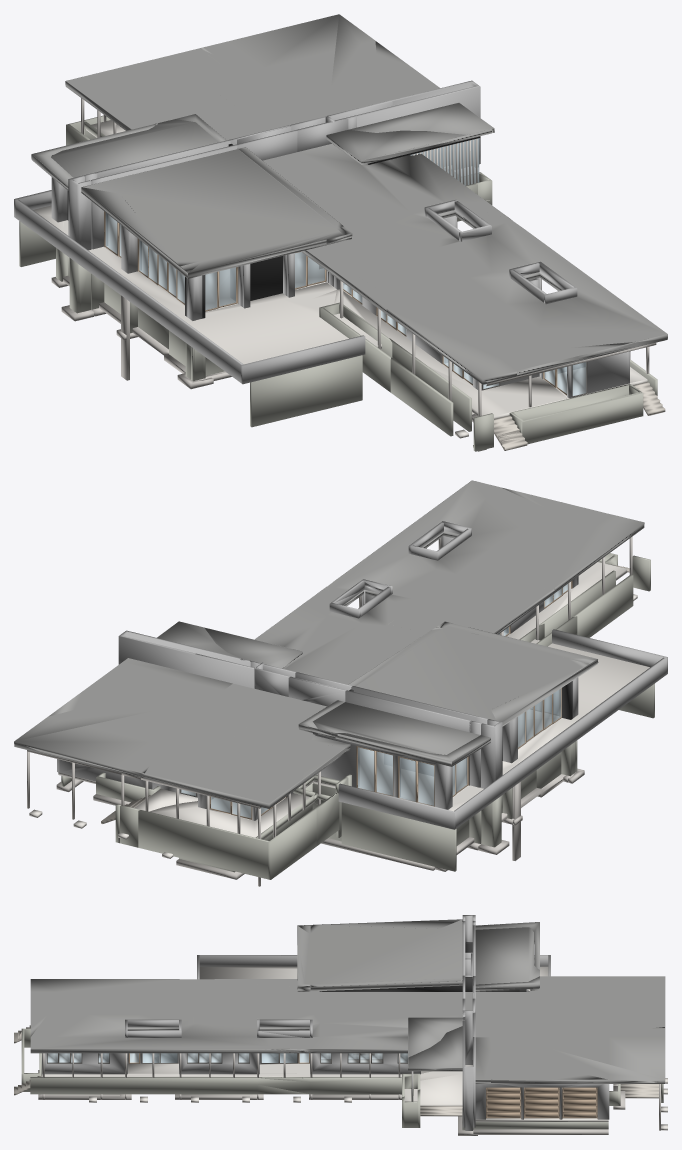
3 views of the same model, one above another, from view 1: azimuth 30°, elevation 25°; view 2: azimuth 150°, elevation 25°; view 3: azimuth 270°, elevation 25° (orthographic). The views are drawn at different scales.
Parts seen in each view (by area): view 1: storey4_roof~m0, storey4_roof~m8, storey4_roof~m3, storey4_roof~m7, storey4_roof~m4, storey4_roof~m2, storey3_floor~m9, storey3_wall__vertical-stained-wood-siding-787878~m9, storey4_roof~m9, storey3_wall__concrete-cast-in-place-gray-818476~m9, storey4_roof~m5, storey3_wall__concrete-cast-in-place-gray-818476~m3 (+28 smaller); view 2: storey4_roof~m7, storey4_roof~m0, storey4_roof~m3, storey4_roof~m8, storey4_roof~m2, storey4_roof~m4, storey3_wall__vertical-stained-wood-siding-787878~m9, storey3_wall__concrete-cast-in-place-gray-818476~m2, storey3_wall__concrete-cast-in-place-gray-818476~m9, storey4_roof~m9, storey4_roof~m5, storey4_roof~m6 (+29 smaller); view 3: storey4_roof~m7, storey4_roof~m3, storey4_roof~m0, storey4_roof~m8, storey4_roof~m2, storey4_roof~m4, storey3_wall__concrete-cast-in-place-gray-818476~m3, storey4_roof~m1, storey3_wall__vertical-stained-wood-siding-787878~m3, storey4_roof~m5, storey3_door~m7, storey4_roof~m6 (+22 smaller).
Boxes of the visible parts, bbox=[...] form: storey4_roof~m0: bbox=[306, 224, 540, 384]; storey4_roof~m8: bbox=[83, 149, 335, 265]; storey4_roof~m3: bbox=[431, 208, 667, 376]; storey4_roof~m7: bbox=[227, 14, 494, 134]; storey4_roof~m4: bbox=[298, 129, 509, 249]; storey4_roof~m2: bbox=[65, 47, 267, 142]; storey3_floor~m9: bbox=[33, 205, 381, 364]; storey3_wall__vertical-stained-wood-siding-787878~m9: bbox=[14, 190, 365, 384]; storey4_roof~m9: bbox=[31, 107, 392, 313]; storey3_wall__concrete-cast-in-place-gray-818476~m9: bbox=[19, 221, 362, 427]; storey4_roof~m5: bbox=[194, 41, 327, 130]; storey3_wall__concrete-cast-in-place-gray-818476~m3: bbox=[509, 359, 657, 444]; storey4_roof~m7: bbox=[14, 621, 254, 772]; storey4_roof~m0: bbox=[388, 512, 644, 634]; storey4_roof~m3: bbox=[313, 480, 611, 604]; storey4_roof~m8: bbox=[356, 628, 582, 720]; storey4_roof~m2: bbox=[140, 697, 344, 808]; storey4_roof~m4: bbox=[182, 587, 419, 703]; storey3_wall__vertical-stained-wood-siding-787878~m9: bbox=[338, 629, 667, 829]; storey3_wall__concrete-cast-in-place-gray-818476~m2: bbox=[138, 776, 316, 879]; storey3_wall__concrete-cast-in-place-gray-818476~m9: bbox=[313, 683, 654, 871]; storey4_roof~m9: bbox=[303, 587, 598, 778]; storey4_roof~m5: bbox=[119, 690, 278, 777]; storey4_roof~m6: bbox=[308, 702, 480, 754]; storey4_roof~m7: bbox=[408, 1026, 665, 1083]; storey4_roof~m3: bbox=[30, 992, 296, 1053]; storey4_roof~m0: bbox=[30, 972, 310, 1014]; storey4_roof~m8: bbox=[306, 919, 462, 991]; storey4_roof~m2: bbox=[475, 976, 665, 1028]; storey4_roof~m4: bbox=[257, 1014, 490, 1066]; storey3_wall__concrete-cast-in-place-gray-818476~m3: bbox=[21, 1028, 309, 1094]; storey4_roof~m1: bbox=[310, 978, 472, 1014]; storey3_wall__vertical-stained-wood-siding-787878~m3: bbox=[42, 1019, 303, 1074]; storey4_roof~m5: bbox=[491, 1014, 665, 1037]; storey3_door~m7: bbox=[486, 1087, 597, 1118]; storey4_roof~m6: bbox=[475, 927, 549, 991].
Size of the model in its own units: 28.28 by 11.54 by 50.53.
